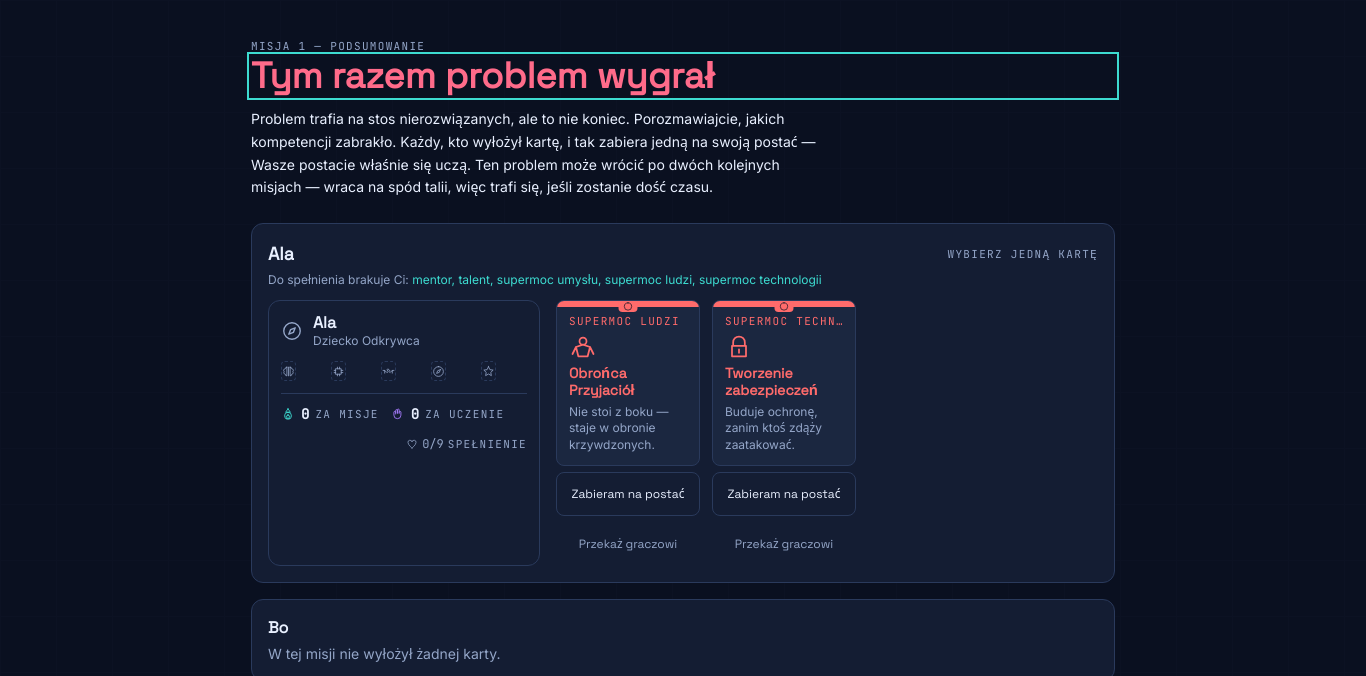
Test: SummaryScreen — panel przekazania po zabraniu innej karty › zamyka panel przekazania, gdy gracz zabiera inną kartę na postać
Otwiera ofertę przekazania karty A.
Step 1. Click the button "Przekaż graczowi" below "Obrońca Przyjaciół" → coordinates (628, 544), box [556,522,700,566]
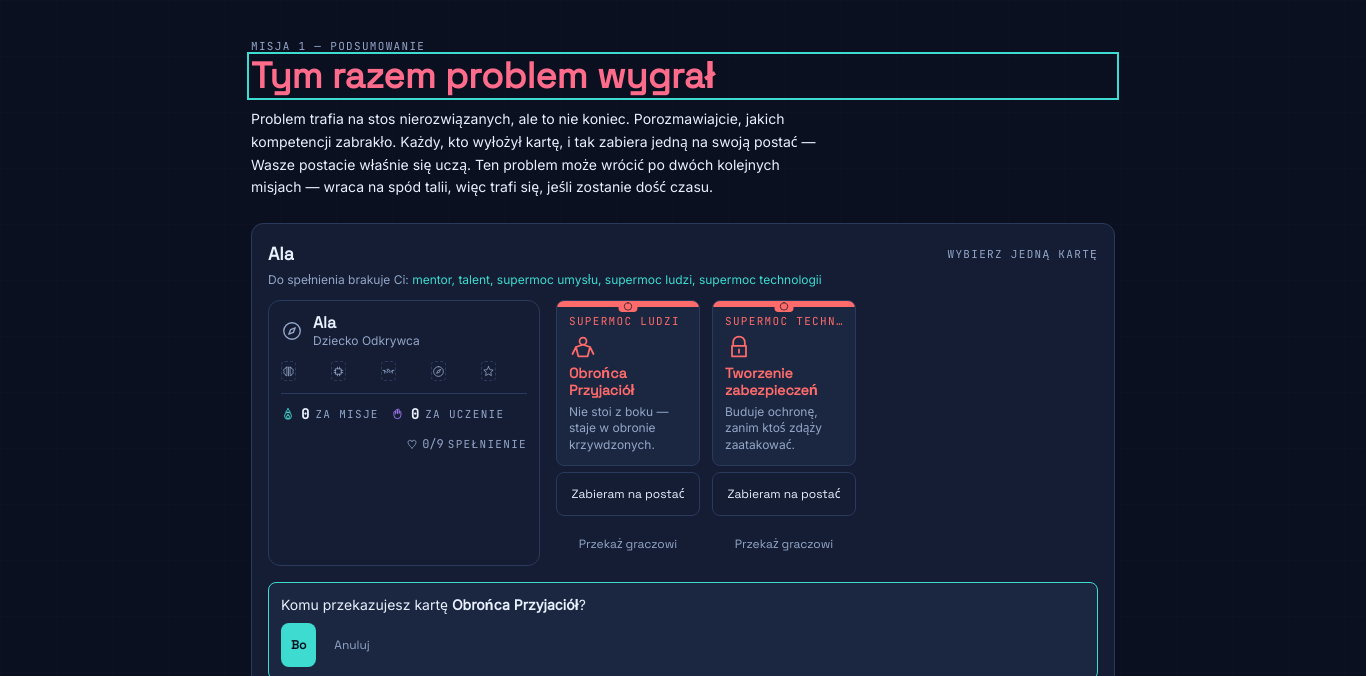
Now the text "Komu przekazujesz kartę Obrońca Przyjaciół?" is shown, box [281,596,586,613]
Zamiast wybrać odbiorcę, gracz zabiera na postać INNĄ swoją kartę (B).
Step 2. Click the button "Zabieram na postać" below "Tworzenie zabezpieczeń" → coordinates (784, 494), box [712,472,856,516]
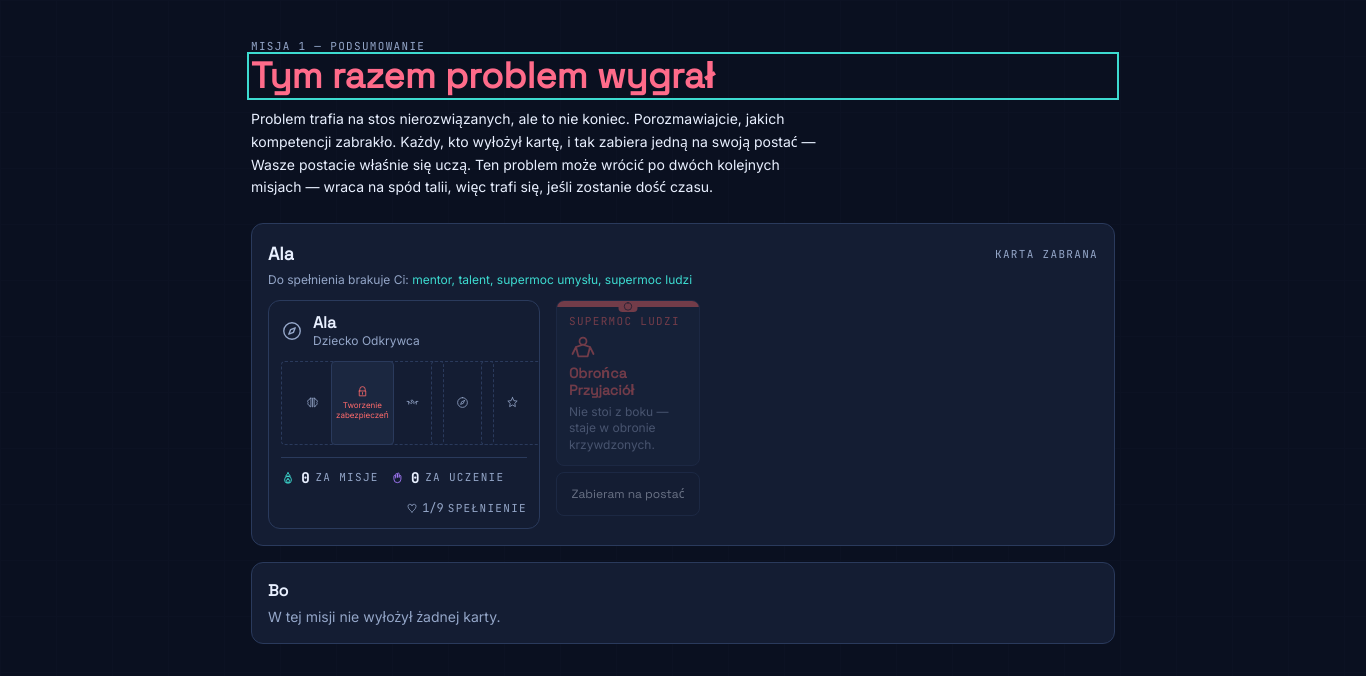
Now the text "Komu przekazujesz kartę" is gone
